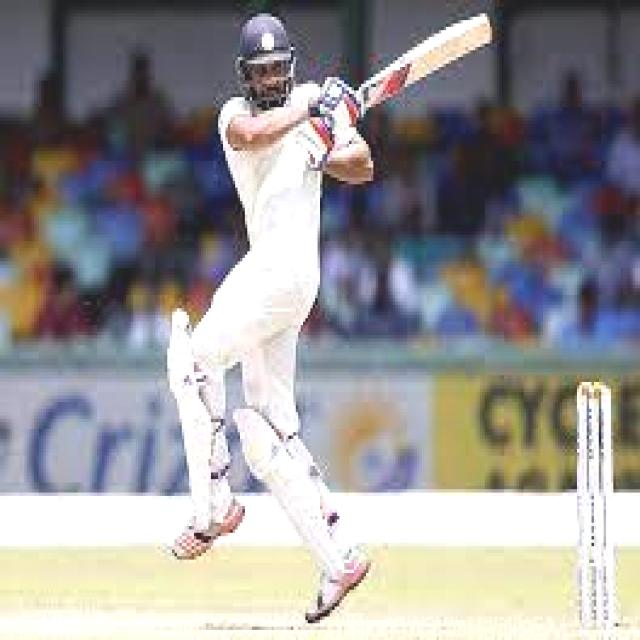toe: (469, 14, 493, 46)
